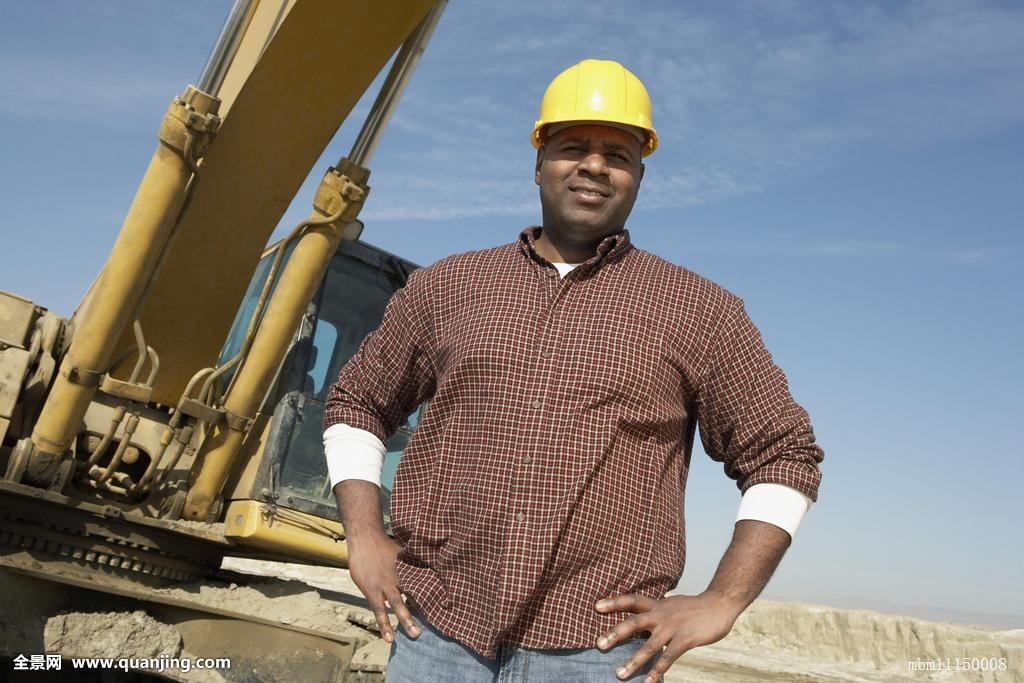yellow: (520, 58, 660, 238)
